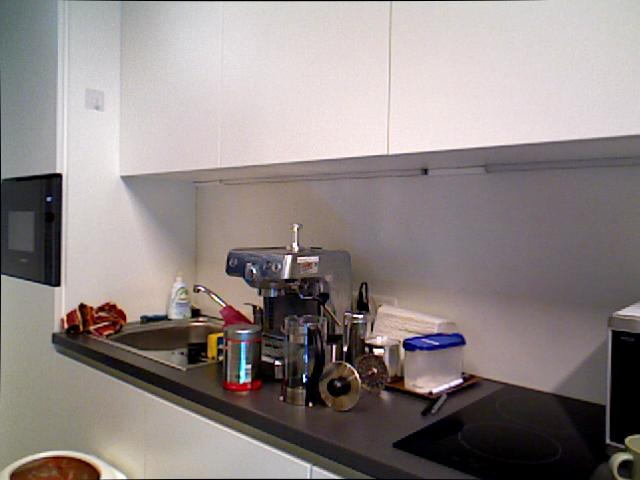apple: (0, 172, 62, 286)
bench: (166, 273, 191, 320)
couch: (96, 320, 252, 353)
handbag: (278, 312, 327, 406), (608, 433, 639, 479)
knife: (608, 296, 640, 447)
